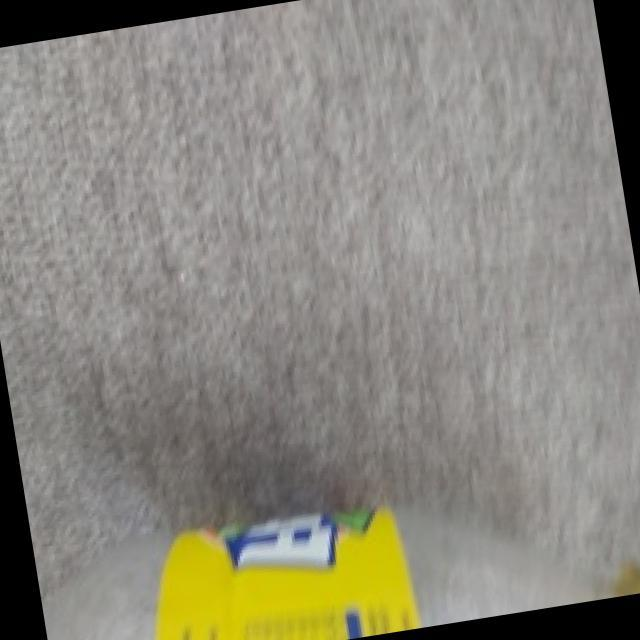good: (33, 457, 640, 640)
